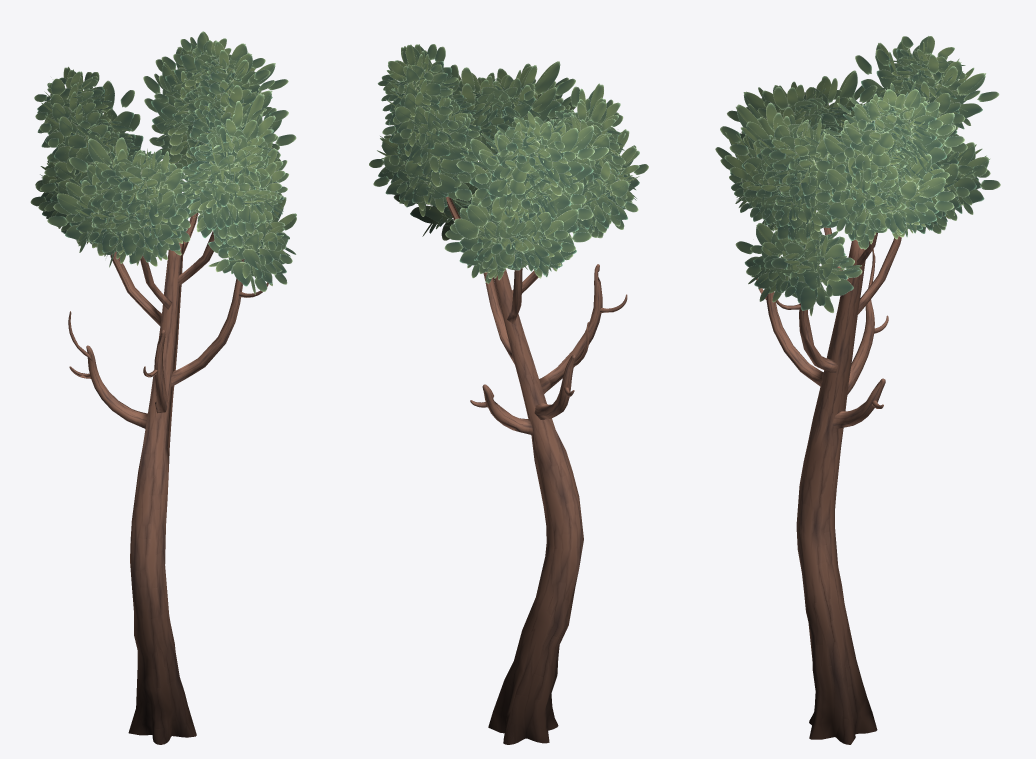
The model's file is CommonTree_4.glb.
3 views of the same model, side by side, from view 1: azimuth 30°, elevation 25°; view 2: azimuth 150°, elevation 25°; view 3: azimuth 270°, elevation 25° (orthographic). The views are drawn at different scales.
Parts seen in each view (by area): view 1: CommonTree_4; view 2: CommonTree_4; view 3: CommonTree_4.
Part boxes in pixels (left/top/right/bottom): CommonTree_4: left=30, top=31, right=296, bottom=744; CommonTree_4: left=369, top=44, right=648, bottom=744; CommonTree_4: left=715, top=36, right=1000, bottom=744.
Size of the model in its own units: 4.12 by 9.56 by 4.04.
2 materials, 2 textured.
